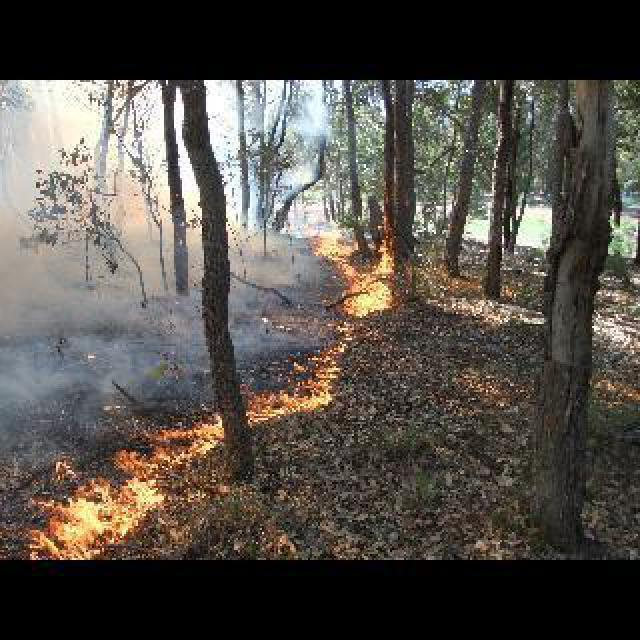fire: (20, 452, 153, 558), (145, 384, 341, 444), (313, 232, 404, 315)
smoke: (9, 93, 294, 386)
